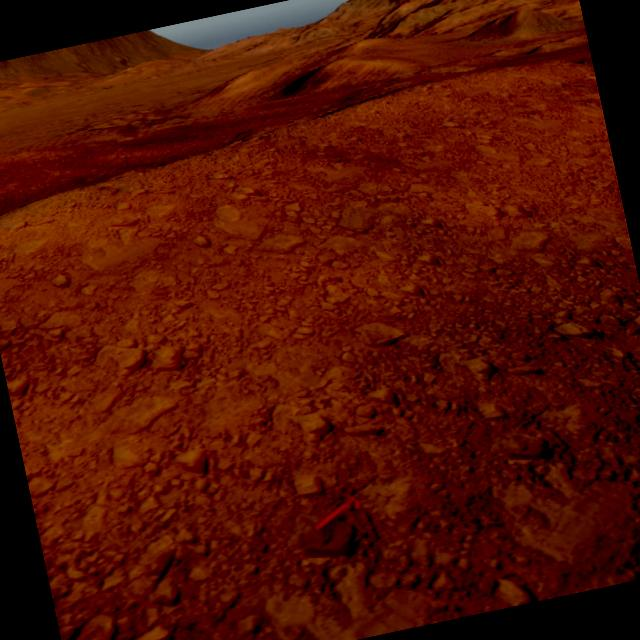newhammer: (307, 490, 363, 532)
